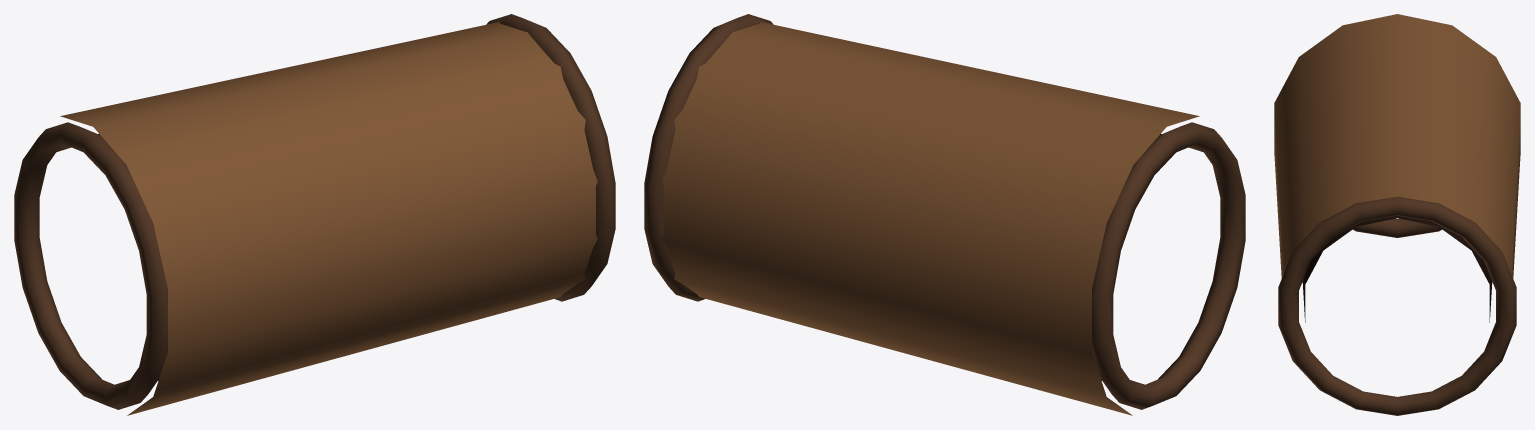
The model's file is log_hollow.glb.
3 renders of one model, left to right at view 1: azimuth 30°, elevation 25°; view 2: azimuth 150°, elevation 25°; view 3: azimuth 270°, elevation 25°, orthographic. The views are drawn at different scales.
Parts seen in each view (by area): view 1: log_hollow; view 2: log_hollow; view 3: log_hollow.
Boxes of the visible parts, bbox=[...] form: log_hollow: bbox=[14, 14, 615, 415]; log_hollow: bbox=[644, 14, 1245, 415]; log_hollow: bbox=[1274, 14, 1520, 415].
Bounding box in the file's own units: 0.8346 × 0.48 × 0.4679.
